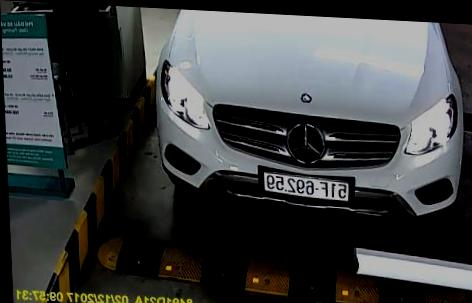License_Plate: (262, 172, 352, 203)
